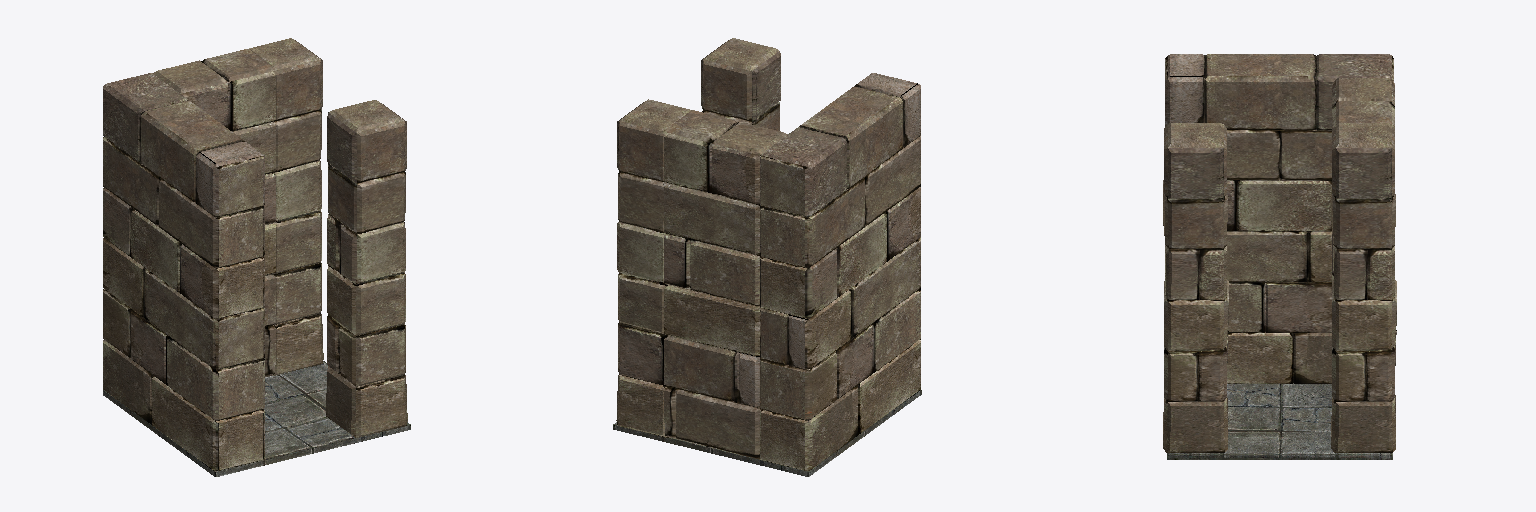
3 renders of one model, left to right at view 1: azimuth 30°, elevation 25°; view 2: azimuth 150°, elevation 25°; view 3: azimuth 270°, elevation 25°, orthographic.
Parts seen in each view (by area): view 1: Box4139, Box4146, Box4145, Box001ui, Box4141; view 2: Box4139, Box001ui, Box4145, Box4146, Box4141; view 3: Box4139, Box4146, Box4145, Box4141, Box001ui.
Part boxes in pixels (x1,y1,x2,y2): Box4139: (103, 73, 264, 471); Box4146: (326, 100, 407, 437); Box4145: (249, 38, 323, 375); Box001ui: (153, 49, 276, 376); Box4141: (103, 361, 410, 476); Box4139: (760, 73, 920, 470); Box001ui: (663, 110, 787, 459); Box4145: (616, 99, 690, 437); Box4146: (701, 38, 780, 130); Box4141: (613, 390, 921, 476); Box4139: (1165, 54, 1393, 383); Box4146: (1163, 123, 1228, 452); Box4145: (1331, 123, 1396, 452); Box4141: (1167, 383, 1392, 459); Box001ui: (1332, 78, 1394, 280).
Bounding box in the file's own units: 2.03 × 3.08 × 2.09.
Materials: 2 (2 with a texture image).